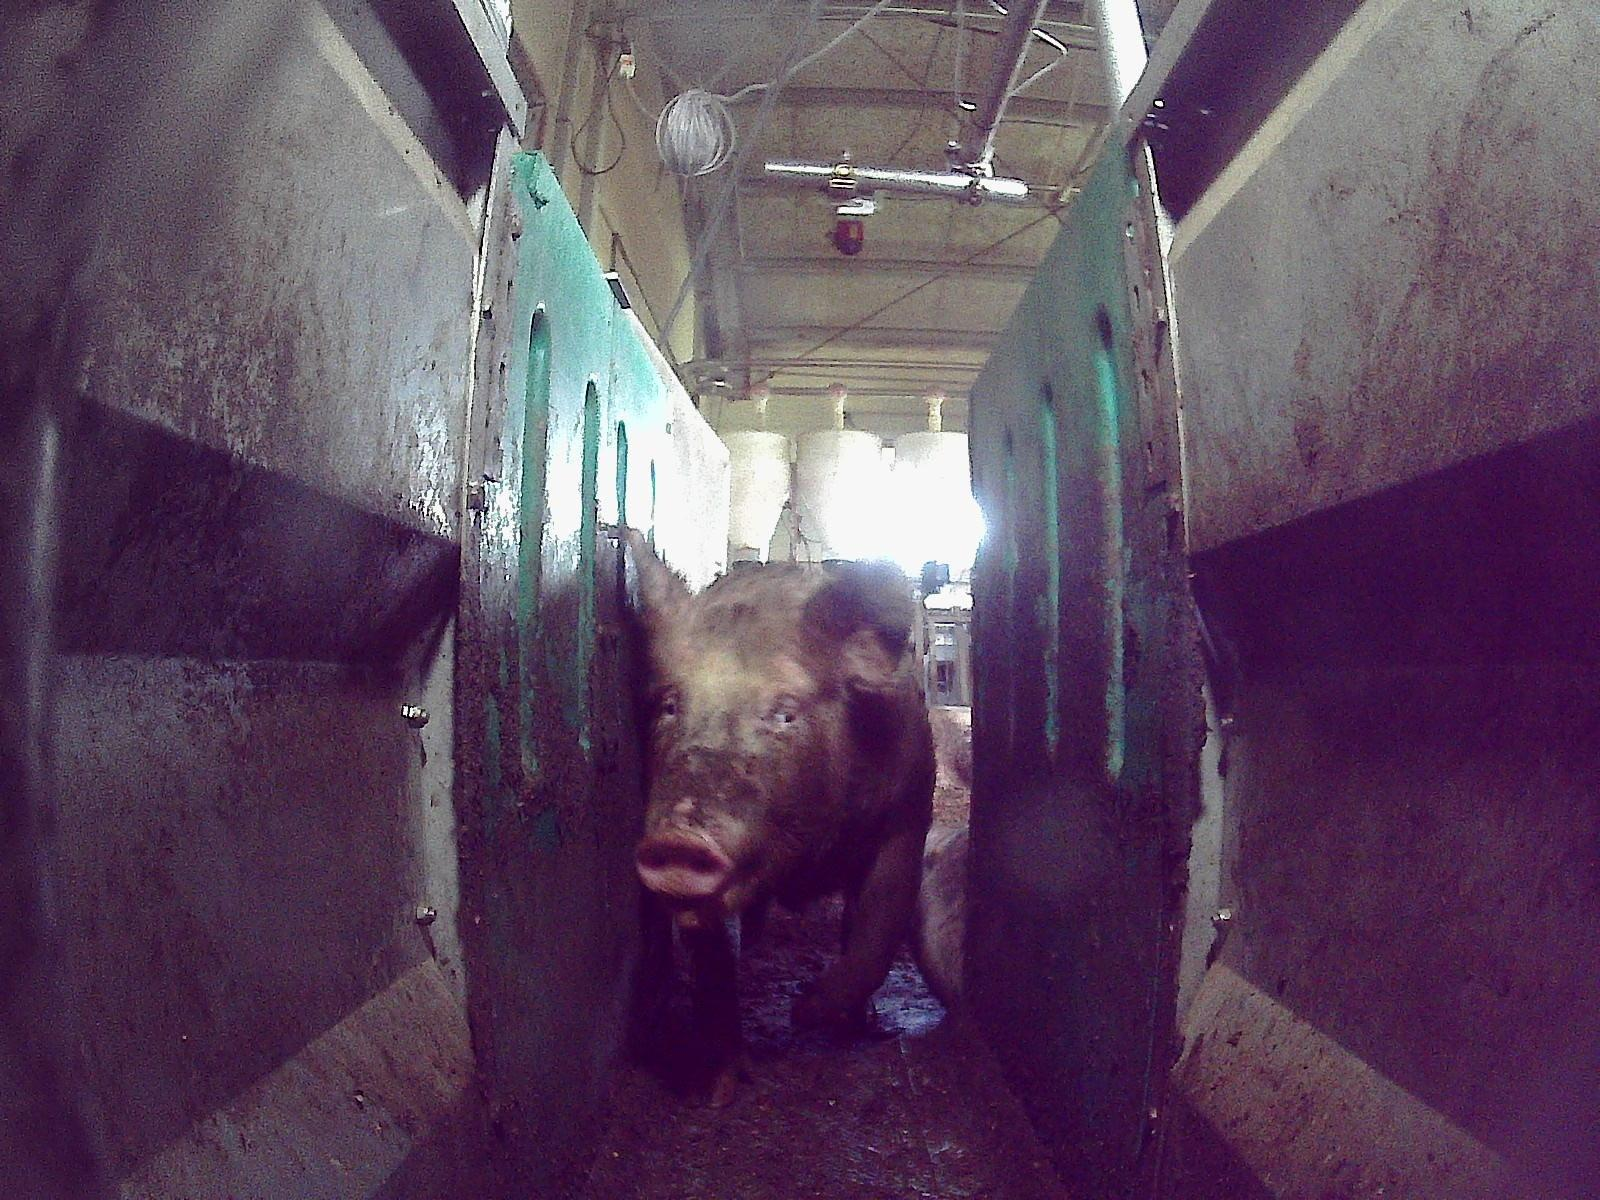Face: (634, 617, 860, 917)
